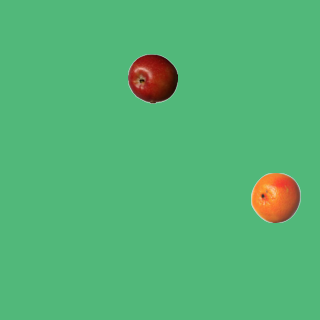Apple Braeburn: (127, 53, 177, 103)
Grapefruit Pink: (250, 172, 300, 222)
